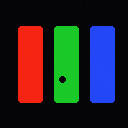0 point: (59, 76, 65, 82)
